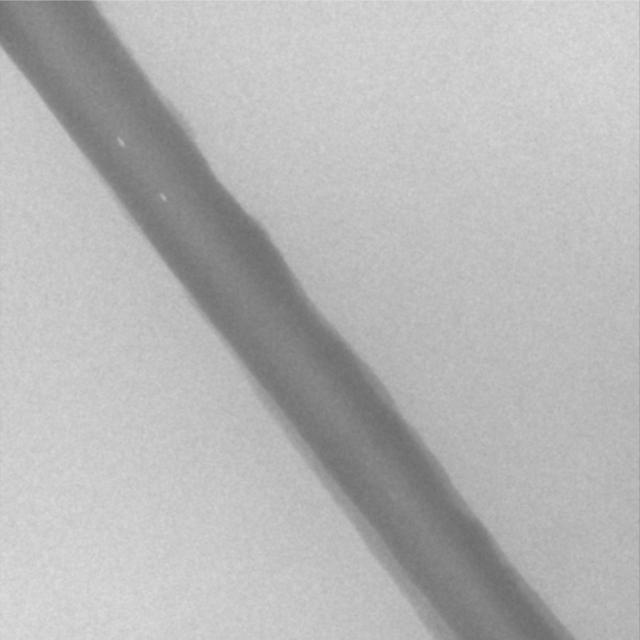air hole: (114, 135, 125, 147), (158, 192, 168, 204)
